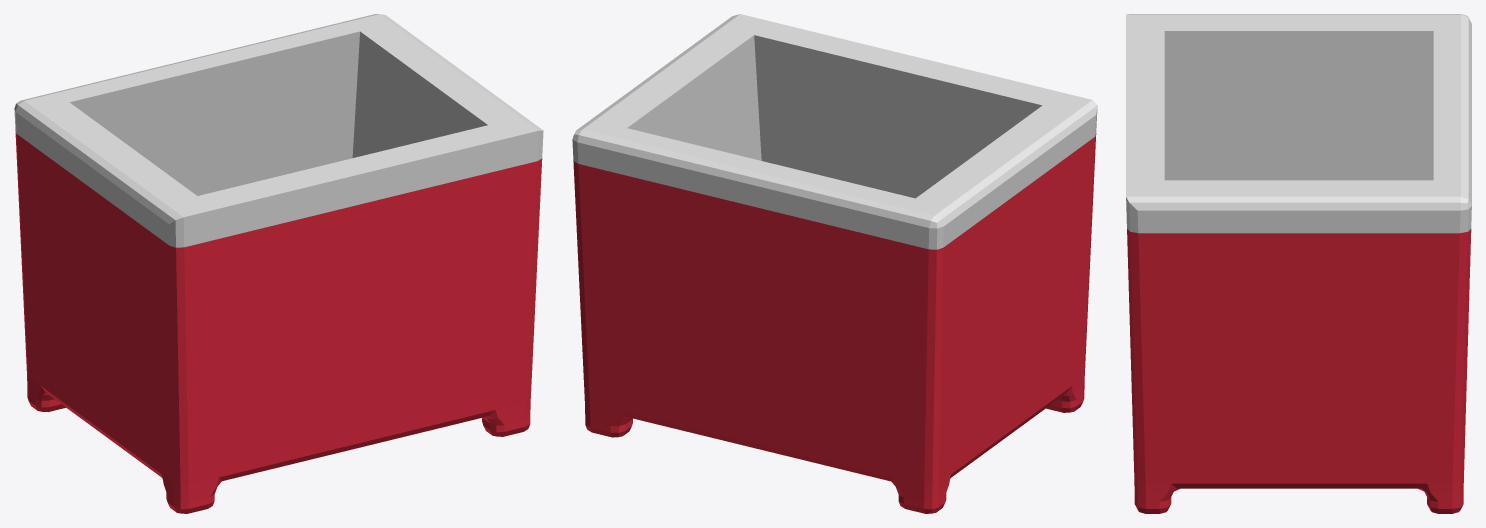
Rendered from cooler_body.fbx.
3 views of the same model, side by side, from view 1: azimuth 30°, elevation 25°; view 2: azimuth 150°, elevation 25°; view 3: azimuth 270°, elevation 25° (orthographic). The views are drawn at different scales.
Visible parts, largest first — view 1: Cube.001; view 2: Cube.001; view 3: Cube.001.
Part boxes in pixels (bbox=[...]): Cube.001: bbox=[14, 14, 543, 513]; Cube.001: bbox=[572, 14, 1097, 513]; Cube.001: bbox=[1126, 14, 1471, 513].
Bounding box in the file's own units: 79.83 × 62.49 × 60.97.
